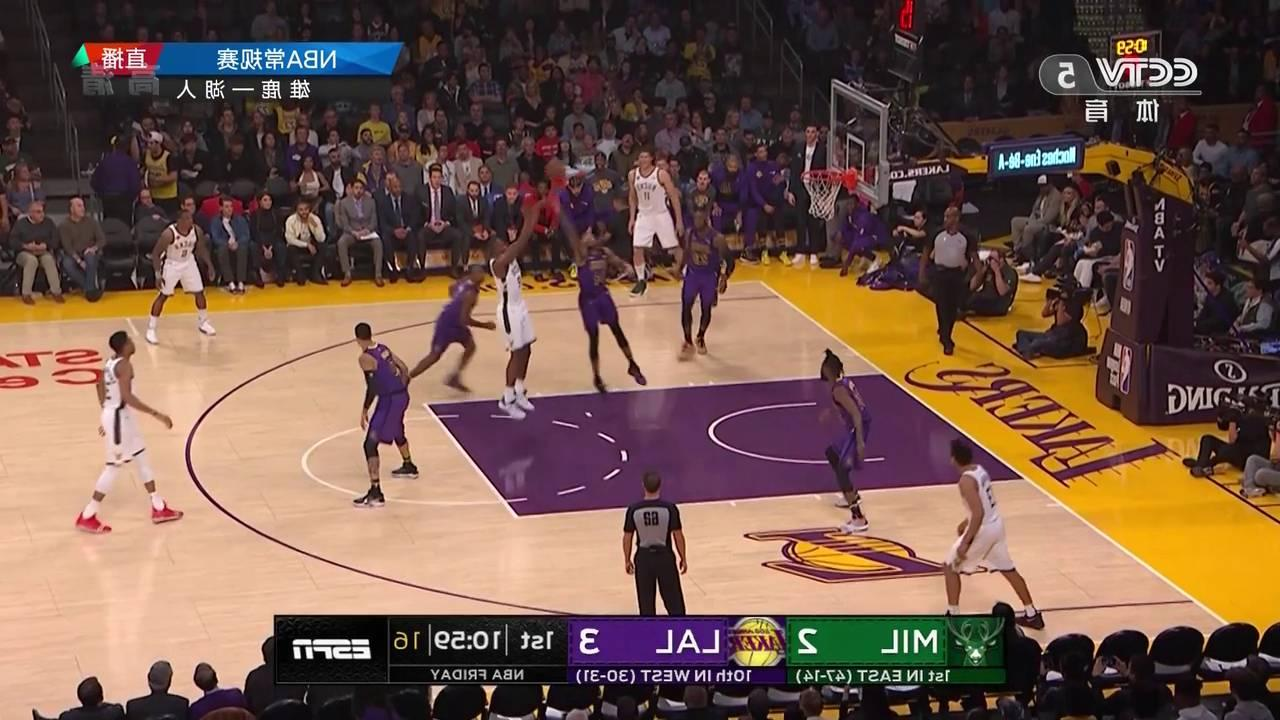basketball: (543, 158, 569, 181)
